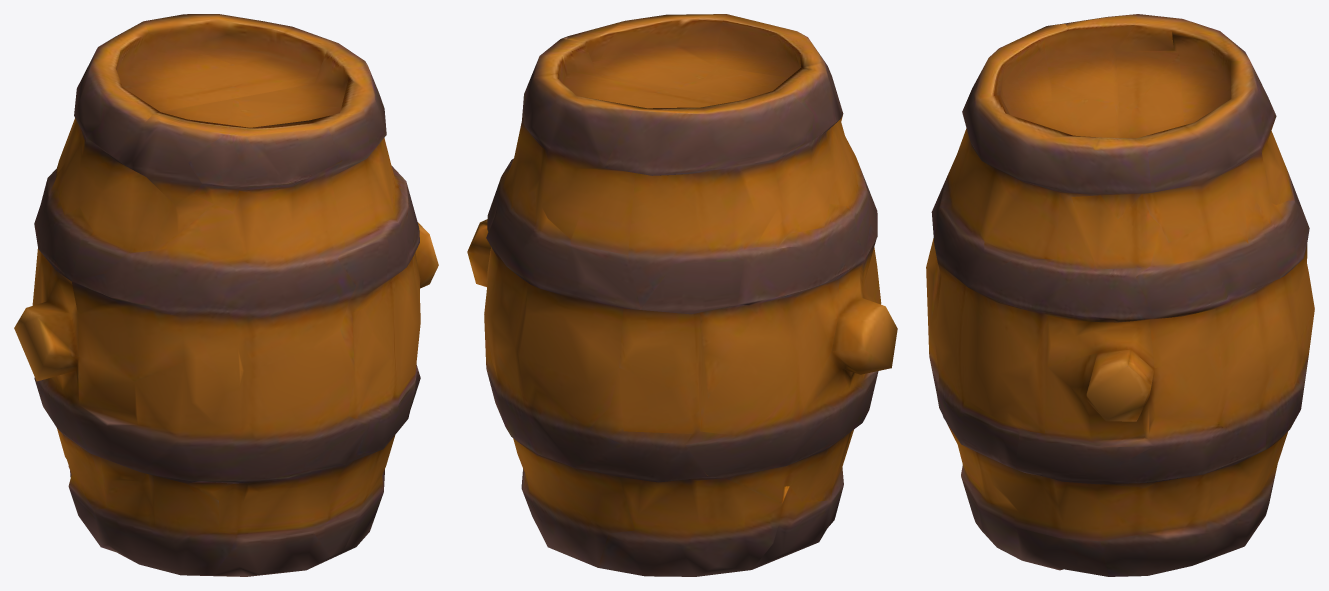
Rendered from model-prop-keg-01.glb.
3 renders of one model, left to right at view 1: azimuth 30°, elevation 25°; view 2: azimuth 150°, elevation 25°; view 3: azimuth 270°, elevation 25°, orthographic. The views are drawn at different scales.
Visible parts, largest first — view 1: tripo_node_4e2730a4-62b6-4238-a49b-e94cae09c235; view 2: tripo_node_4e2730a4-62b6-4238-a49b-e94cae09c235; view 3: tripo_node_4e2730a4-62b6-4238-a49b-e94cae09c235.
Part boxes in pixels (left/top/right/bottom): tripo_node_4e2730a4-62b6-4238-a49b-e94cae09c235: left=14, top=14, right=438, bottom=576; tripo_node_4e2730a4-62b6-4238-a49b-e94cae09c235: left=467, top=14, right=897, bottom=576; tripo_node_4e2730a4-62b6-4238-a49b-e94cae09c235: left=926, top=14, right=1314, bottom=576.
Size of the model in its own units: 0.5456 by 0.6 by 0.4726.
1 material, 1 textured.
